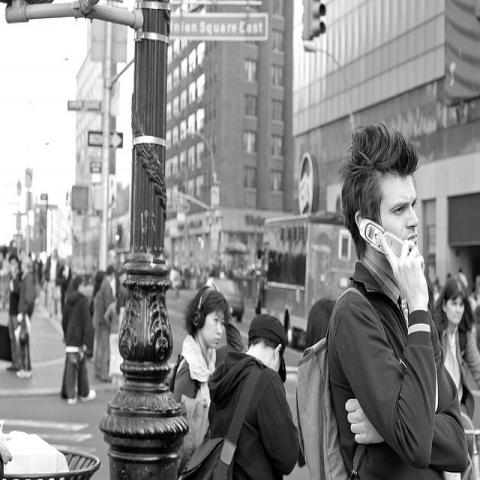bus: (259, 210, 358, 347)
car: (206, 275, 244, 321)
truck: (256, 213, 358, 342)
